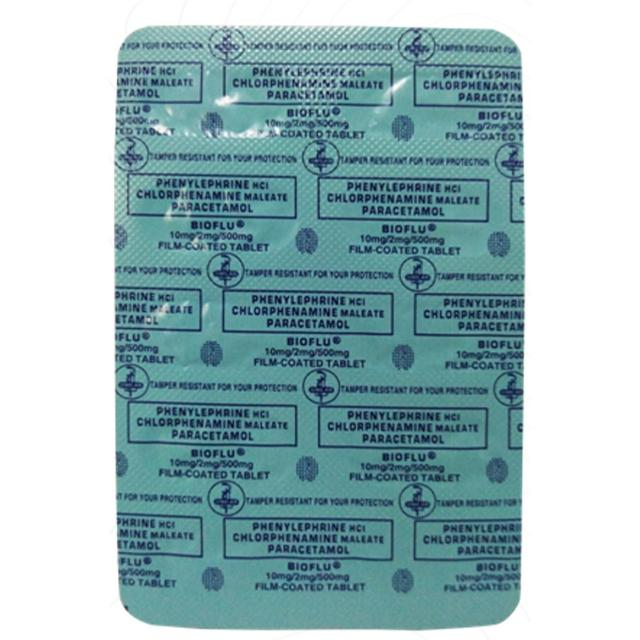blister: (105, 12, 525, 634)
